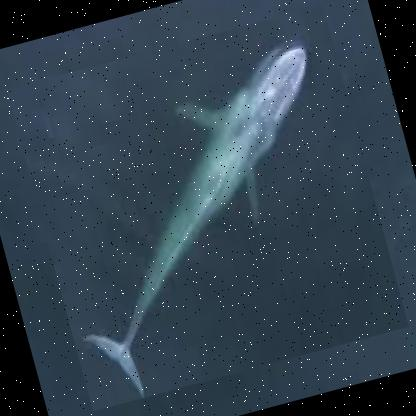blue_whale: (6, 3, 409, 411)
